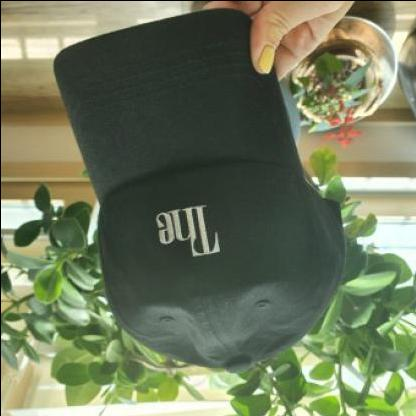cap: (43, 6, 361, 382)
